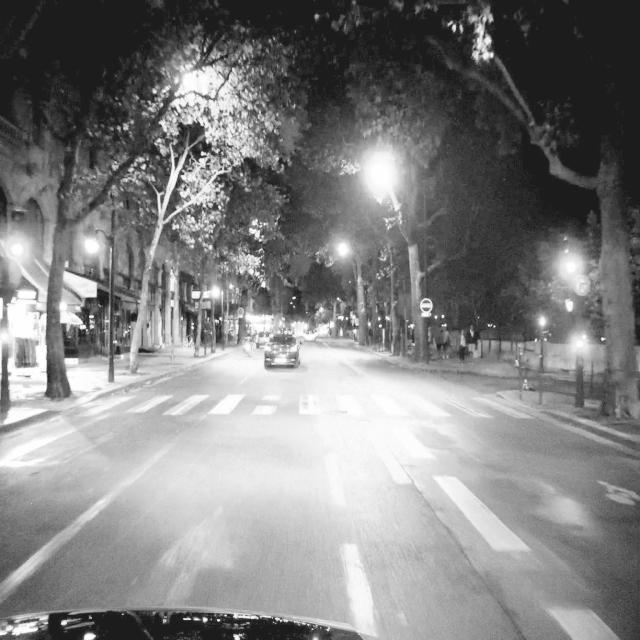Light: (12, 210, 26, 255), (562, 237, 576, 274), (1, 320, 9, 342), (576, 326, 582, 348), (565, 299, 575, 312)
Tree: (587, 0, 639, 422)
